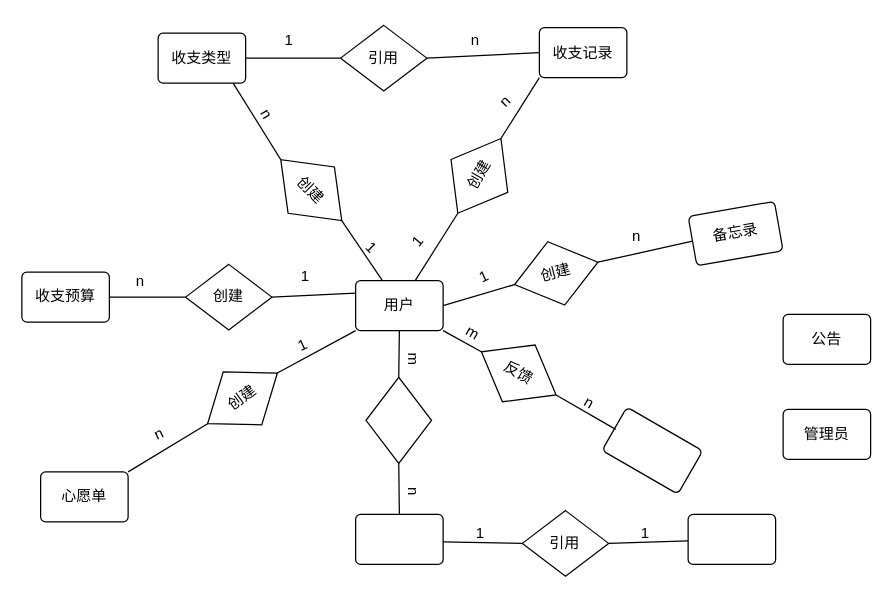
This 893x598 diagram has some shape labels left out. The shapes that lost their labels are listed below. From the top down, each one's box as (x1, y1, x2, y2) in pixels, then its label:
(365, 376, 432, 464): 收藏
(600, 406, 703, 494): 反馈信息
(354, 513, 443, 564): 收藏新闻
(687, 513, 776, 564): 新闻
